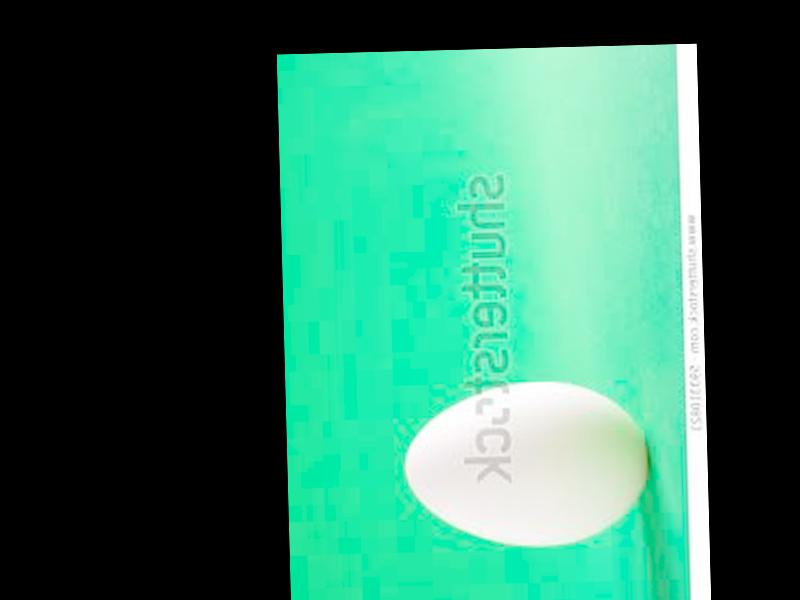Eggs: (404, 379, 654, 551)
